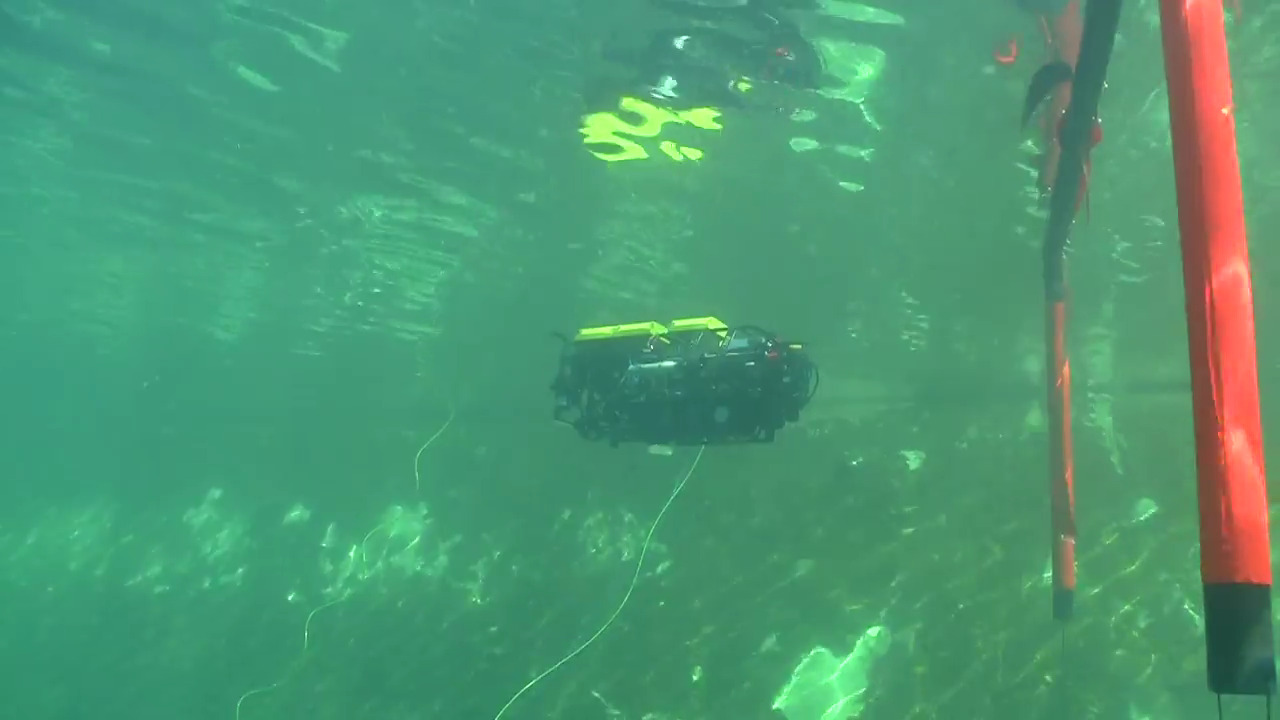gate: (1041, 1, 1277, 704)
